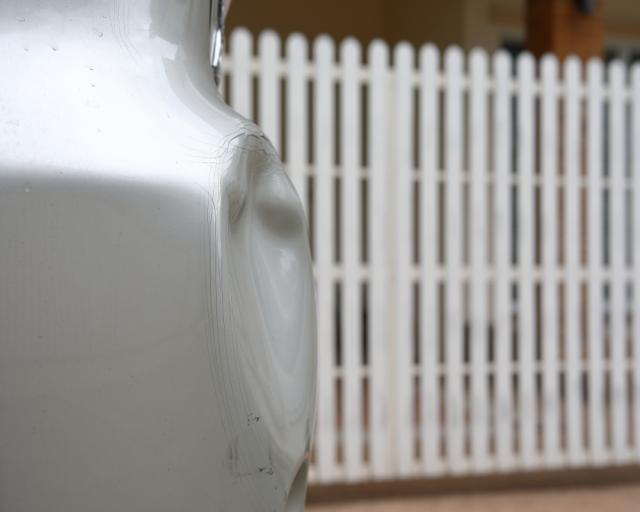dent: (219, 127, 316, 461)
